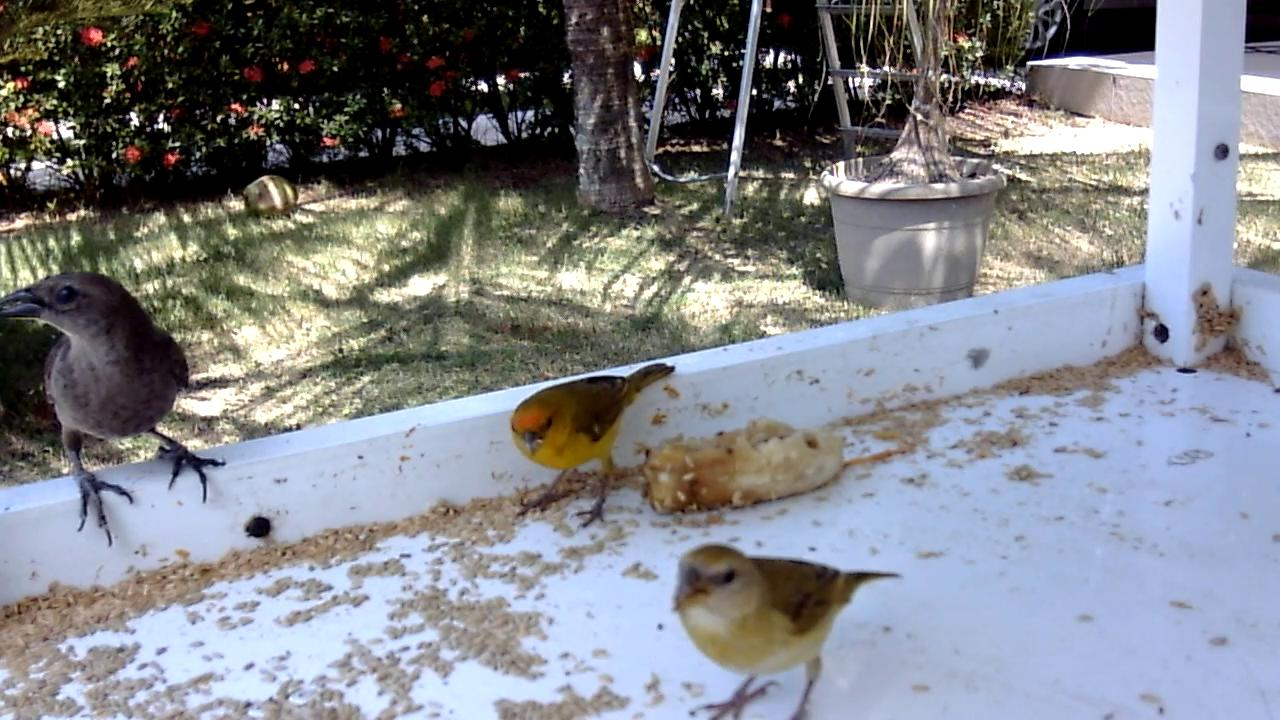canario_do_amazonas: (667, 538, 907, 720), (506, 360, 682, 532)
chupim: (1, 267, 234, 552)
